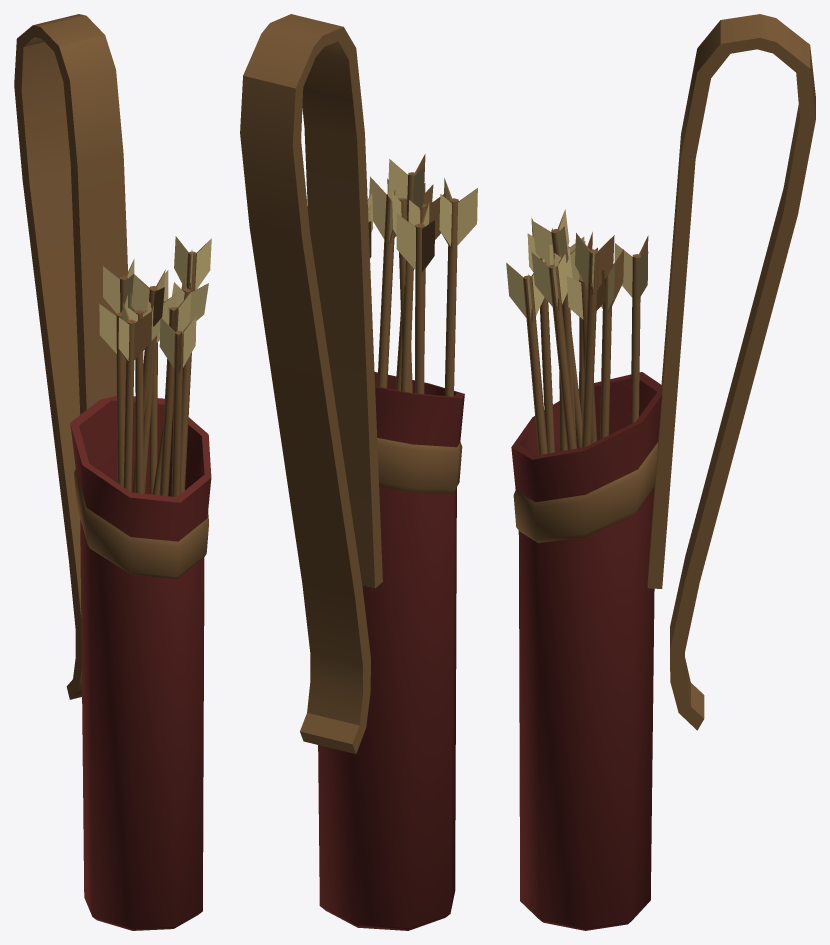
Rendered from obj_arrowQuiver.FBX.
3 renders of one model, left to right at view 1: azimuth 30°, elevation 25°; view 2: azimuth 150°, elevation 25°; view 3: azimuth 270°, elevation 25°, orthographic. The views are drawn at different scales.
Parts seen in each view (by area): view 1: obj_arrowQuiver; view 2: obj_arrowQuiver; view 3: obj_arrowQuiver.
Part boxes in pixels (x1=…): obj_arrowQuiver: x1=14, y1=14, x2=211, y2=930; obj_arrowQuiver: x1=240, y1=14, x2=477, y2=930; obj_arrowQuiver: x1=506, y1=14, x2=815, y2=930.
Bounding box in the file's own units: 0.411 × 2.44 × 0.7791.
